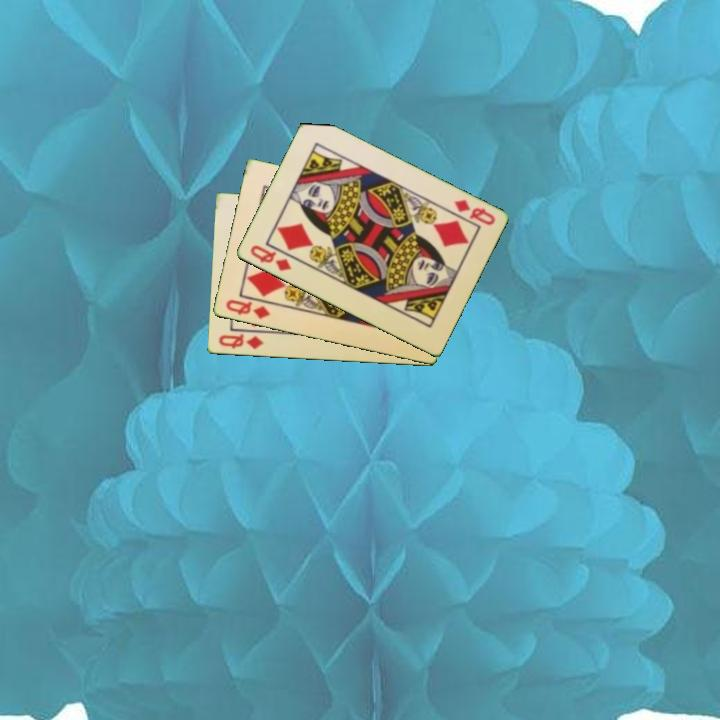Qd: (246, 241, 294, 274), (450, 196, 498, 229), (222, 296, 273, 323), (215, 330, 266, 352)
